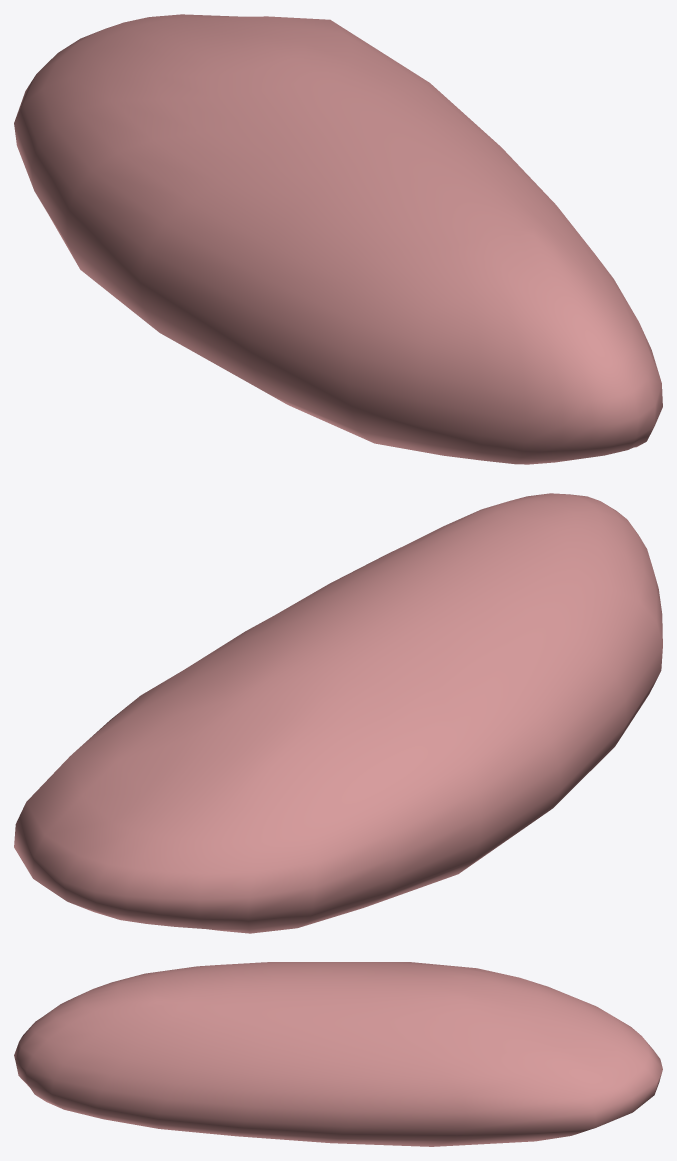
Rendered from Chicken.fbx.
3 renders of one model, top to bottom at view 1: azimuth 30°, elevation 25°; view 2: azimuth 150°, elevation 25°; view 3: azimuth 270°, elevation 25°, orthographic. The views are drawn at different scales.
Parts seen in each view (by area): view 1: Chicken; view 2: Chicken; view 3: Chicken.
Boxes of the visible parts, box(x1,y1,x2,y2) form: Chicken: box(14, 14, 662, 464); Chicken: box(14, 493, 662, 933); Chicken: box(14, 962, 662, 1146).
Bounding box in the file's own units: 9.32 × 4.45 × 21.09.
